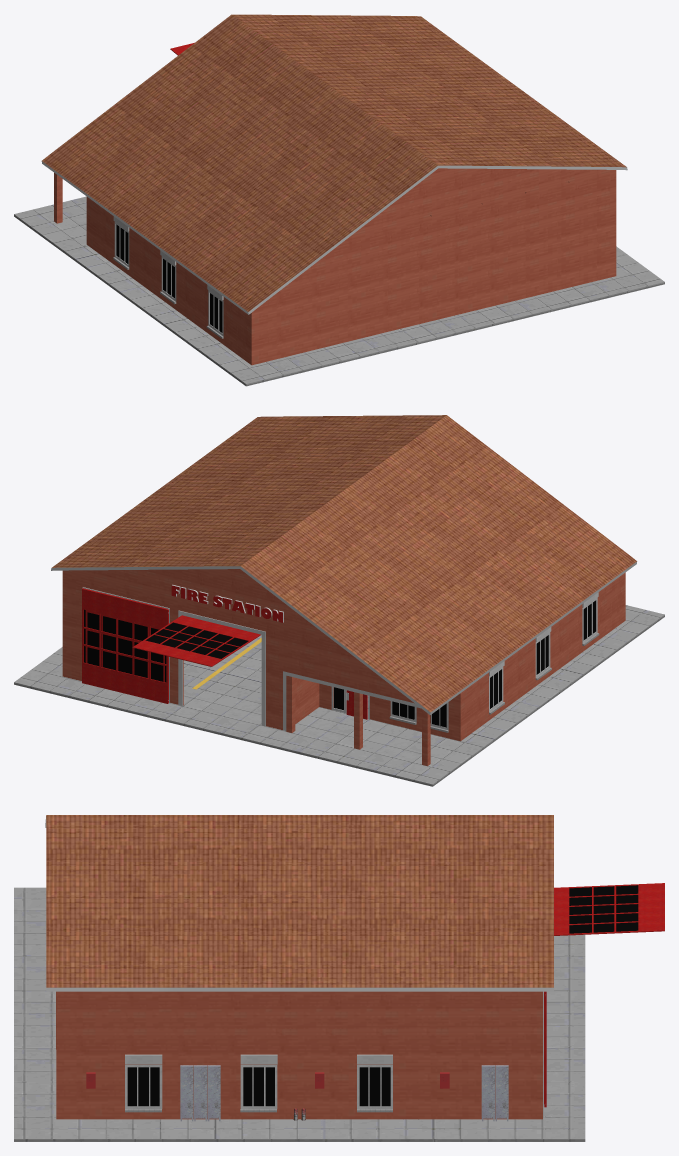
The model's file is Fire Station Final.fbx.
3 views of the same model, one above another, from view 1: azimuth 30°, elevation 25°; view 2: azimuth 150°, elevation 25°; view 3: azimuth 270°, elevation 25° (orthographic). The views are drawn at different scales.
Parts seen in each view (by area): view 1: Fire_Station_Final, Box004; view 2: Fire_Station_Final, Box004, Box006, Gate__1_, Gate; view 3: Fire_Station_Final, Box004, Gate__1_, Locker_Cabinet_011, Locker_Cabinet_010, Locker_Cabinet_012, Locker_Cabinet_9, Locker_Cabinet_013.
Part boxes in pixels (x1,y1,x2,y2): Fire_Station_Final: (41, 14, 627, 365); Box004: (14, 196, 664, 386); Fire_Station_Final: (51, 415, 637, 766); Box004: (14, 605, 664, 786); Box006: (82, 588, 168, 703); Gate__1_: (132, 615, 260, 666); Gate: (85, 610, 164, 682); Fire_Station_Final: (45, 815, 553, 1119); Box004: (14, 887, 585, 1141); Gate__1_: (554, 883, 664, 935); Locker_Cabinet_011: (207, 1065, 220, 1121); Locker_Cabinet_010: (194, 1065, 207, 1121); Locker_Cabinet_012: (481, 1065, 494, 1121); Locker_Cabinet_9: (180, 1065, 193, 1121); Locker_Cabinet_013: (495, 1065, 508, 1121).
Size of the model in its own units: 2650 by 976 by 2900.
3 materials, 2 textured.
